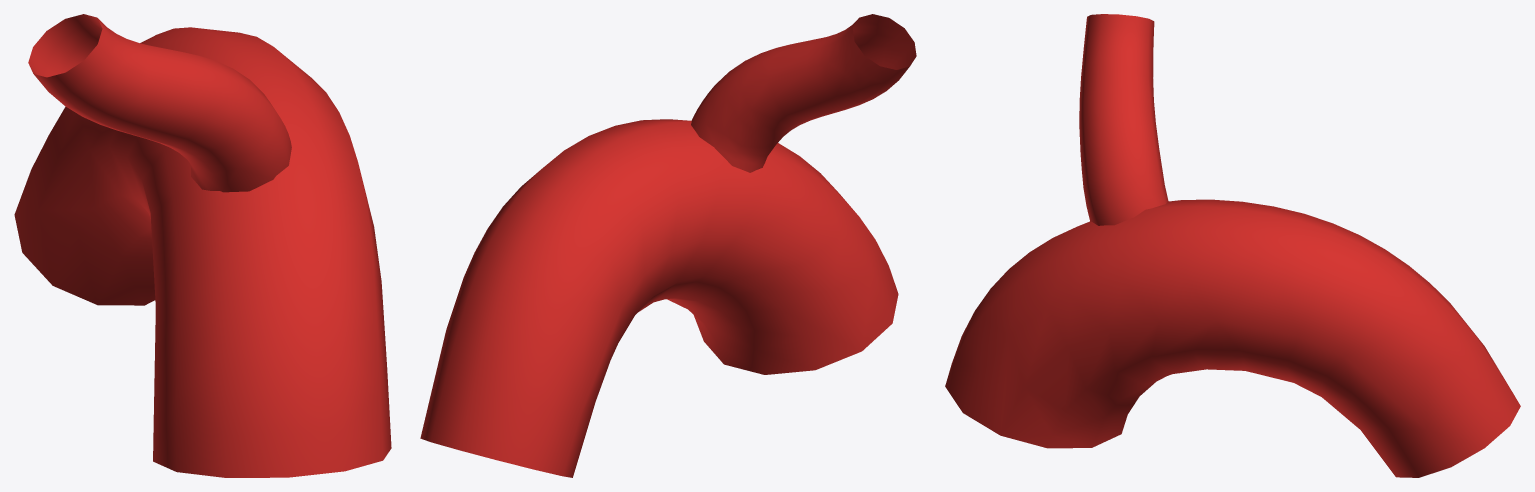
Rendered from circulatorio-aortic-arch.glb.
3 views of the same model, side by side, from view 1: azimuth 30°, elevation 25°; view 2: azimuth 150°, elevation 25°; view 3: azimuth 270°, elevation 25° (orthographic). The views are drawn at different scales.
Parts seen in each view (by area): view 1: Aortic arch, Brachiocephalic trunk; view 2: Aortic arch, Brachiocephalic trunk; view 3: Aortic arch, Brachiocephalic trunk.
Part boxes in pixels (<box>): Aortic arch: <box>14,27,391,477</box>; Brachiocephalic trunk: <box>28,14,291,192</box>; Aortic arch: <box>420,119,898,477</box>; Brachiocephalic trunk: <box>691,14,916,172</box>; Aortic arch: <box>945,199,1520,477</box>; Brachiocephalic trunk: <box>1079,14,1168,225</box>.
Size of the model in its own units: 0.0507 by 0.0599 by 0.0852.
